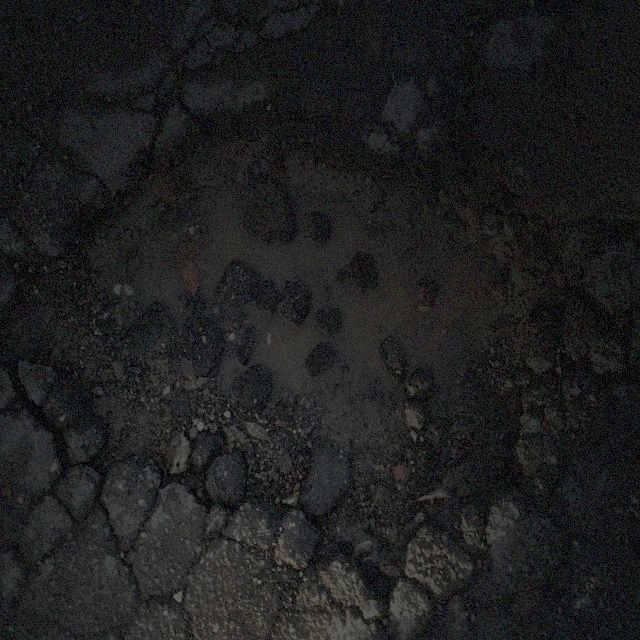pothole: (18, 107, 558, 552)
